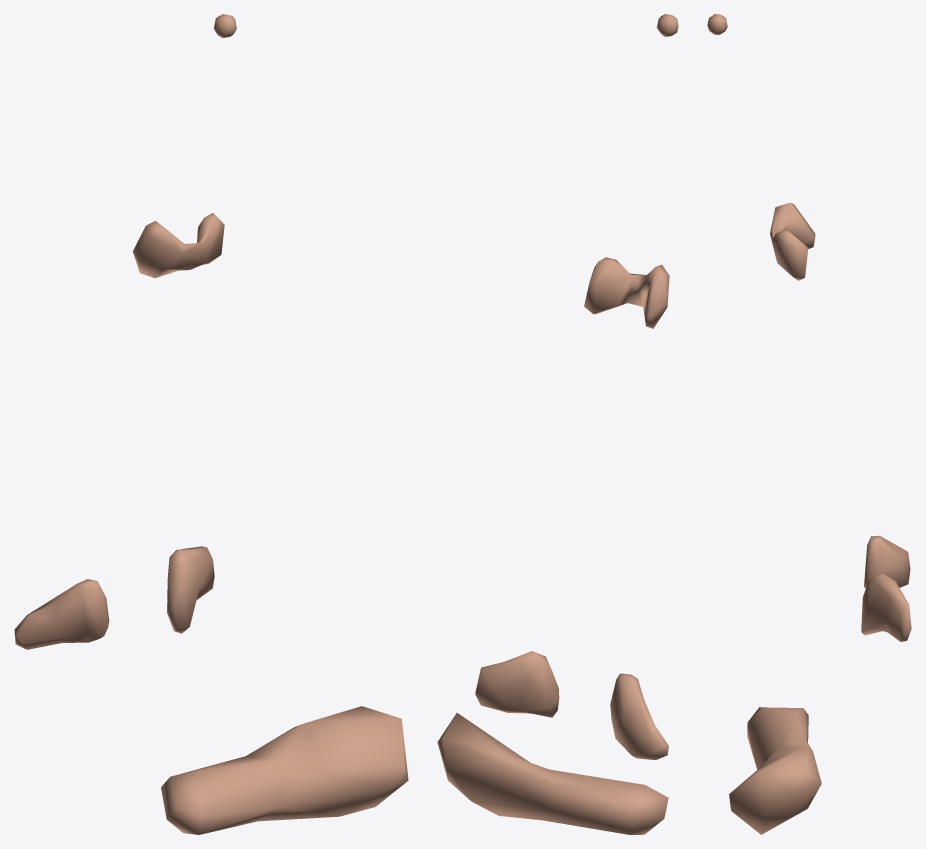
File: pediatric_infant_female.endocrine.LOD3.glb
The picture shows the model from 3 angles, left to right: view 1: azimuth 30°, elevation 25°; view 2: azimuth 150°, elevation 25°; view 3: azimuth 270°, elevation 25°; orthographic projection. The views are drawn at different scales.
Parts seen in each view (by area): view 1: PEDIATRIC.INFANT.FEMALE.ENDOCRINE.PANCREAS, PEDIATRIC.INFANT.FEMALE.ENDOCRINE.ADRENAL.R, PEDIATRIC.INFANT.FEMALE.ENDOCRINE.THYROID, PEDIATRIC.INFANT.FEMALE.ENDOCRINE.ADRENAL.L; view 2: PEDIATRIC.INFANT.FEMALE.ENDOCRINE.PANCREAS, PEDIATRIC.INFANT.FEMALE.ENDOCRINE.ADRENAL.L, PEDIATRIC.INFANT.FEMALE.ENDOCRINE.THYROID, PEDIATRIC.INFANT.FEMALE.ENDOCRINE.ADRENAL.R; view 3: PEDIATRIC.INFANT.FEMALE.ENDOCRINE.PANCREAS, PEDIATRIC.INFANT.FEMALE.ENDOCRINE.ADRENAL.L, PEDIATRIC.INFANT.FEMALE.ENDOCRINE.THYROID, PEDIATRIC.INFANT.FEMALE.ENDOCRINE.ADRENAL.R.
Boxes of the visible parts, <box> form: PEDIATRIC.INFANT.FEMALE.ENDOCRINE.PANCREAS: <box>161,706,408,834</box>; PEDIATRIC.INFANT.FEMALE.ENDOCRINE.ADRENAL.R: <box>14,579,109,649</box>; PEDIATRIC.INFANT.FEMALE.ENDOCRINE.THYROID: <box>132,213,224,278</box>; PEDIATRIC.INFANT.FEMALE.ENDOCRINE.ADRENAL.L: <box>167,546,214,633</box>; PEDIATRIC.INFANT.FEMALE.ENDOCRINE.PANCREAS: <box>437,713,668,834</box>; PEDIATRIC.INFANT.FEMALE.ENDOCRINE.ADRENAL.L: <box>475,651,559,717</box>; PEDIATRIC.INFANT.FEMALE.ENDOCRINE.THYROID: <box>584,257,669,328</box>; PEDIATRIC.INFANT.FEMALE.ENDOCRINE.ADRENAL.R: <box>610,673,668,759</box>; PEDIATRIC.INFANT.FEMALE.ENDOCRINE.PANCREAS: <box>729,707,821,834</box>; PEDIATRIC.INFANT.FEMALE.ENDOCRINE.ADRENAL.L: <box>861,573,911,641</box>; PEDIATRIC.INFANT.FEMALE.ENDOCRINE.THYROID: <box>770,202,815,280</box>; PEDIATRIC.INFANT.FEMALE.ENDOCRINE.ADRENAL.R: <box>864,535,910,588</box>.
Bounding box in the file's own units: 0.1008 × 0.2684 × 0.0664.
